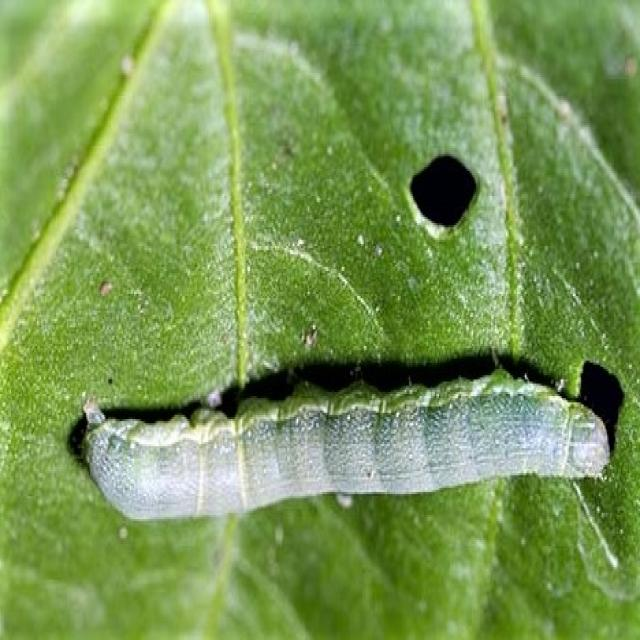armyworm: (81, 365, 610, 521)
